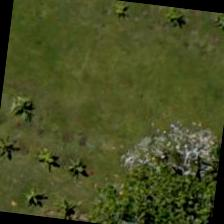Kelapa_Sawit: (7, 112, 108, 212), (26, 119, 126, 219), (0, 54, 78, 153), (21, 155, 119, 223), (0, 146, 85, 221), (128, 1, 223, 65), (0, 99, 62, 197), (69, 0, 166, 60), (176, 8, 223, 74)
